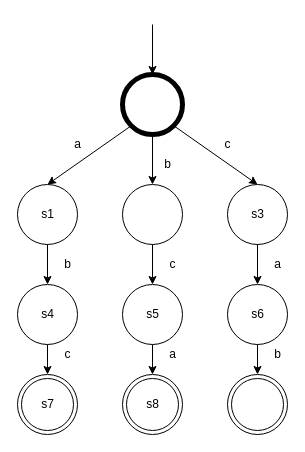
The diagram is 305 pixels wide and 452 high, and some of its shapes have lost their labels. Here are the shapes that lost their labels. From the top down, the box of each, then its label:
(120, 72, 184, 136): s0
(122, 184, 182, 244): s2
(226, 374, 288, 434): s9
